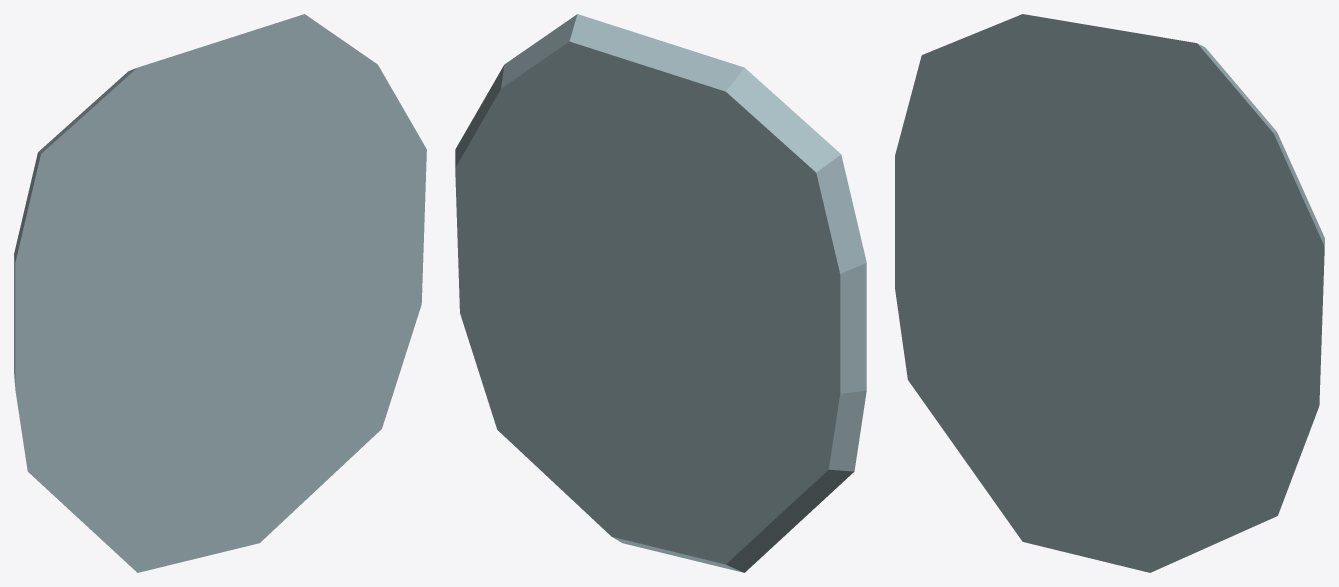
File: ìce_land_2.FBX
3 renders of one model, left to right at view 1: azimuth 30°, elevation 25°; view 2: azimuth 150°, elevation 25°; view 3: azimuth 330°, elevation 25°, orthographic. The views are drawn at different scales.
Parts seen in each view (by area): view 1: Cube.032; view 2: Cube.032; view 3: Cube.032.
Boxes of the visible parts, x1=… form: Cube.032: x1=14, y1=14, x2=426, y2=572; Cube.032: x1=455, y1=14, x2=866, y2=572; Cube.032: x1=895, y1=14, x2=1324, y2=572.
Size of the model in its own units: 1311 by 1577 by 77.06.
